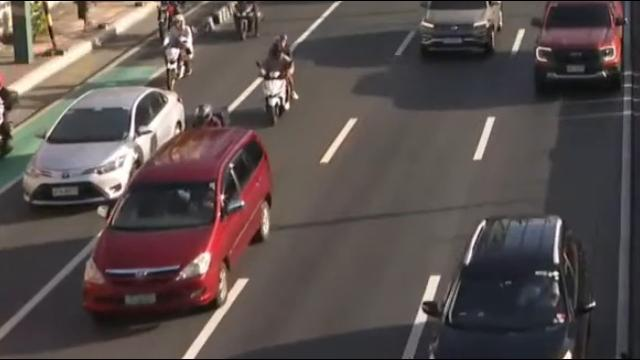car: (80, 128, 273, 318), (420, 211, 596, 360), (23, 86, 186, 211), (529, 0, 630, 86), (417, 0, 503, 57)
motorcycle: (254, 34, 297, 130), (159, 13, 198, 89), (230, 0, 264, 44)
